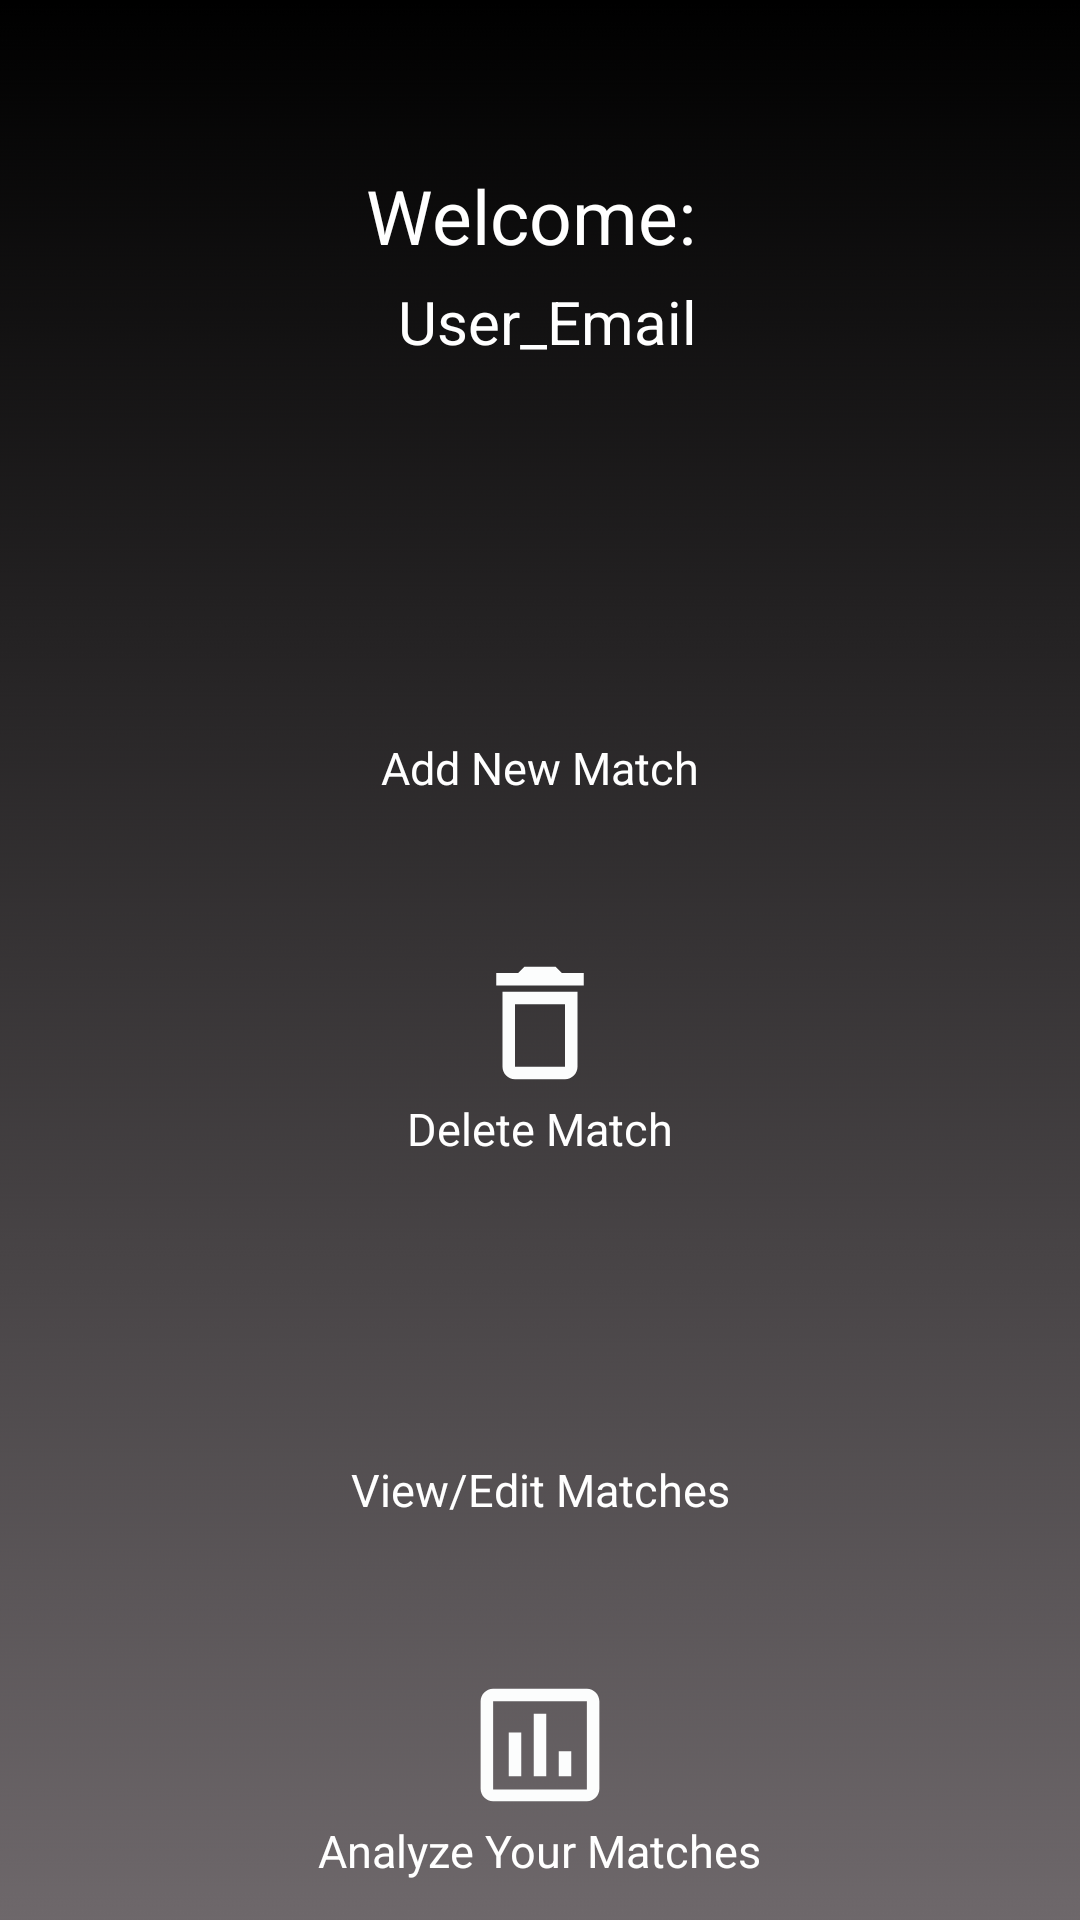

Screen size 1080w x 1920h. Icon name, then its center in pixels as (x,y):
chart: (540,1745)
